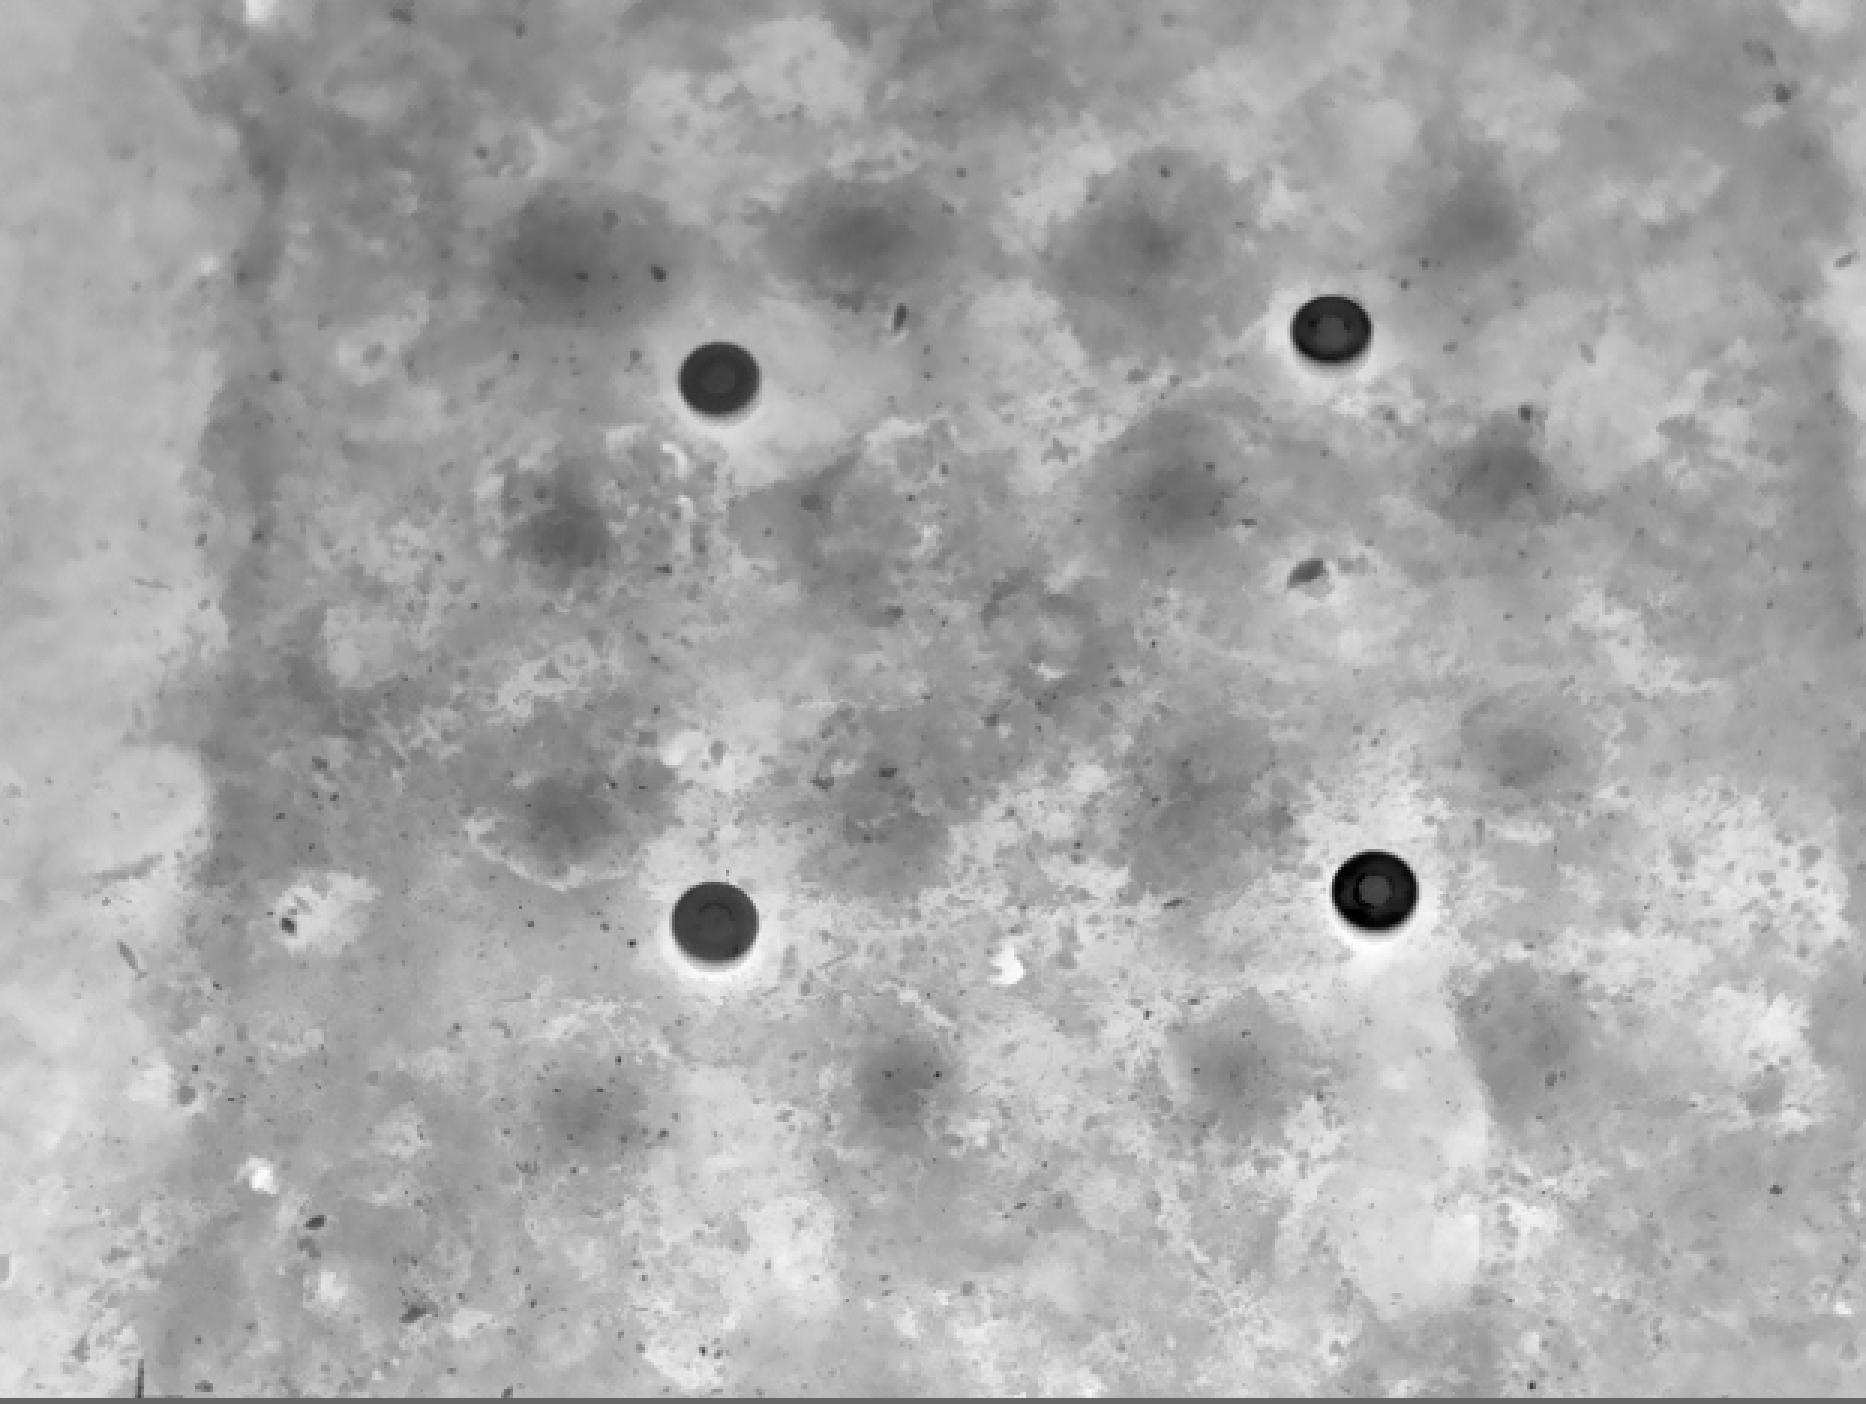mines-gjV8: (668, 342, 792, 437), (1328, 848, 1429, 931), (1303, 288, 1379, 379), (676, 888, 763, 967)
